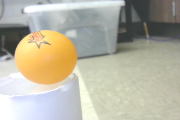PingPongBall: (16, 30, 77, 84)
